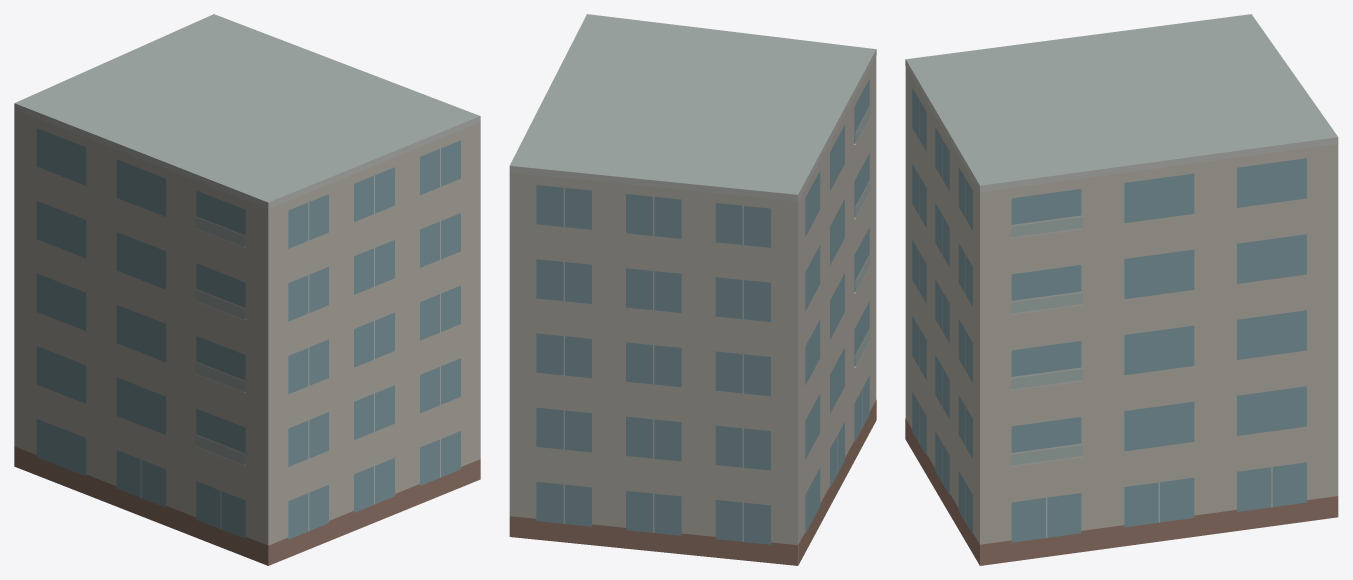
Rendered from survey-upis-32721336.glb.
3 views of the same model, side by side, from view 1: azimuth 30°, elevation 25°; view 2: azimuth 150°, elevation 25°; view 3: azimuth 270°, elevation 25° (orthographic). The views are drawn at different scales.
Visible parts, largest first — view 1: survey-upis-32721336.tmp; view 2: survey-upis-32721336.tmp; view 3: survey-upis-32721336.tmp.
Part boxes in pixels (x1,y1,x2,y2): survey-upis-32721336.tmp: (14, 14, 480, 565); survey-upis-32721336.tmp: (509, 14, 876, 565); survey-upis-32721336.tmp: (905, 14, 1338, 565).
Bounding box in the file's own units: 13.58 × 14 × 14.45.
